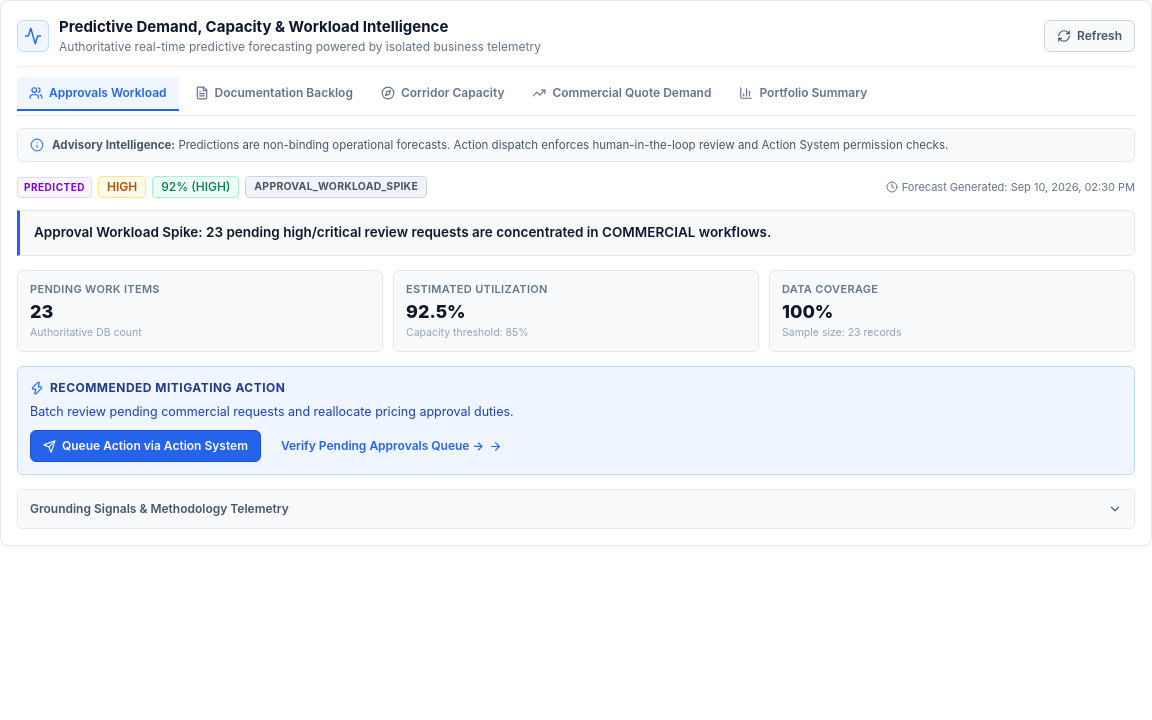
Test case: WorkloadCapacityPredictiveCard Component › handles action queue modal submission via Action System
The width and height of the screenshot is (1152, 720).
Note: Click Queue Action button
What coordinates should you click on to do the following:
click the button with test id "wc-queue-action-btn"
I would click on:
 (145, 446)
Its box is x1=30 y1=430 x2=261 y2=462.
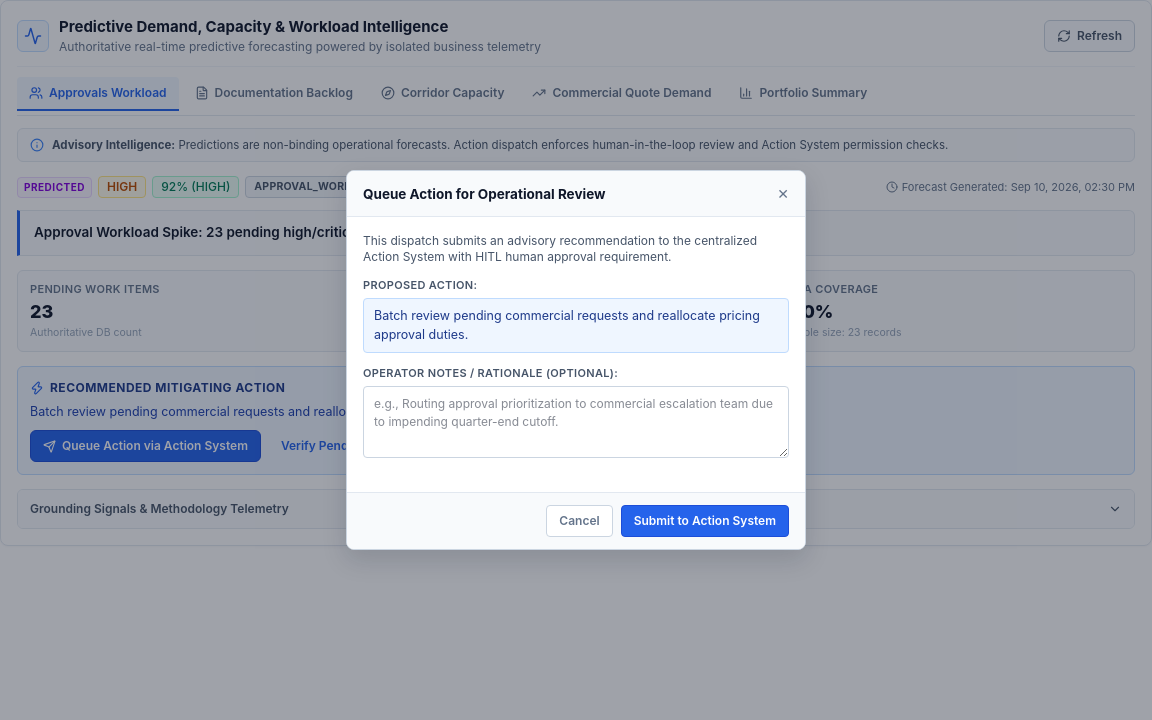
Expected: the element with test id "wc-action-modal" is shown
Note: Click submit in modal
What coordinates should you click on to do the following:
click the button with test id "wc-modal-submit-btn"
I would click on:
 (705, 521)
Its box is x1=621 y1=505 x2=789 y2=537.
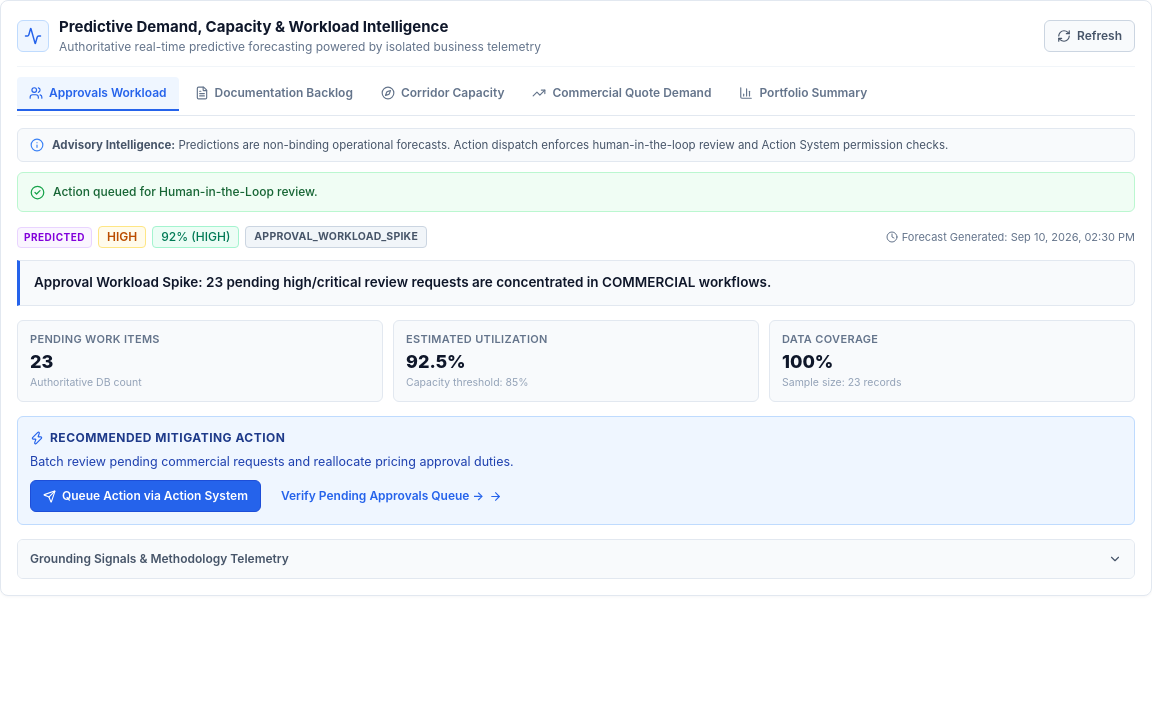
Expected: the element with test id "wc-action-success" shows "Action queued for Human-in-the-Loop review", x1=53 y1=184 x2=318 y2=199
